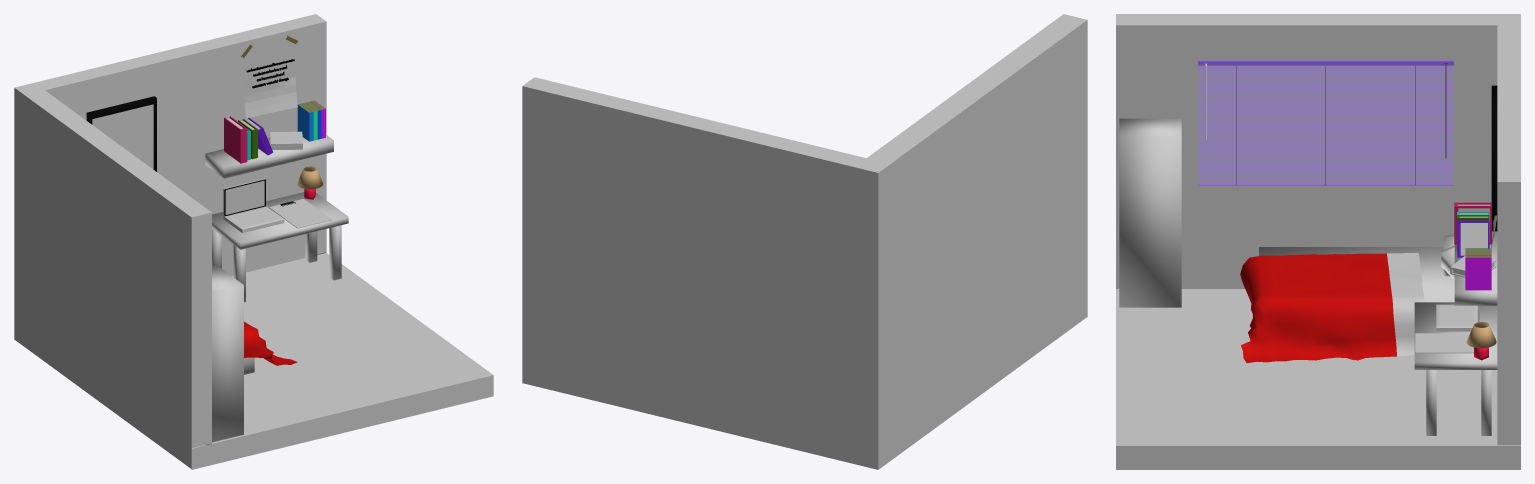
Rendered from Room.obj.
3 views of the same model, side by side, from view 1: azimuth 30°, elevation 25°; view 2: azimuth 150°, elevation 25°; view 3: azimuth 270°, elevation 25° (orthographic). The views are drawn at different scales.
Visible parts, largest first — view 1: Room_Wall_0, Room_Floor_0, Cube.005_Table_0, Table_Table_0, Book_CoverA_0, Paper_Paper_Material_0, Cube.007_Images_0, board_1_board_0, Cube.004_Desktop_0, Book3_Book3_side_material_0, Plane_ClothB_0, Cube.007_Black_0 (+3 smaller); view 2: Room_Wall_0; view 3: Room_Wall_0, Room_Floor_0, Room_Windows_0, Venetian_slats_Plastic_venetian_material_0, Plane_ClothB_0, Cube.005_Wardrop_0, Table_Table_0, Book_CoverA_0, Cube_Bed_0, Plane_Cloth_0, VenetianFrame_Plastic_venetian_material_0, Cube.005_Table_0 (+7 smaller).
Part boxes in pixels (bbox=[...]): Room_Wall_0: bbox=[14, 14, 326, 468]; Room_Floor_0: bbox=[191, 252, 493, 469]; Cube.005_Table_0: bbox=[207, 265, 243, 444]; Table_Table_0: bbox=[212, 192, 348, 302]; Book_CoverA_0: bbox=[205, 116, 333, 178]; Paper_Paper_Material_0: bbox=[244, 33, 297, 118]; Cube.007_Images_0: bbox=[92, 104, 153, 169]; board_1_board_0: bbox=[269, 199, 331, 228]; Cube.004_Desktop_0: bbox=[225, 180, 264, 214]; Book3_Book3_side_material_0: bbox=[297, 100, 325, 141]; Plane_ClothB_0: bbox=[244, 321, 297, 365]; Cube.007_Black_0: bbox=[86, 96, 156, 171]; Room_Wall_0: bbox=[522, 14, 1087, 469]; Room_Wall_0: bbox=[1116, 14, 1520, 445]; Room_Floor_0: bbox=[1116, 289, 1520, 469]; Room_Windows_0: bbox=[1187, 57, 1428, 194]; Venetian_slats_Plastic_venetian_material_0: bbox=[1198, 66, 1453, 182]; Plane_ClothB_0: bbox=[1240, 253, 1396, 362]; Cube.005_Wardrop_0: bbox=[1119, 137, 1181, 307]; Table_Table_0: bbox=[1414, 302, 1497, 435]; Book_CoverA_0: bbox=[1450, 202, 1497, 305]; Cube_Bed_0: bbox=[1259, 247, 1454, 302]; Plane_Cloth_0: bbox=[1387, 253, 1424, 356]; VenetianFrame_Plastic_venetian_material_0: bbox=[1198, 60, 1453, 65]; Cube.005_Table_0: bbox=[1119, 118, 1181, 137].
Size of the model in its own units: 7.84 by 6.26 by 7.98.
